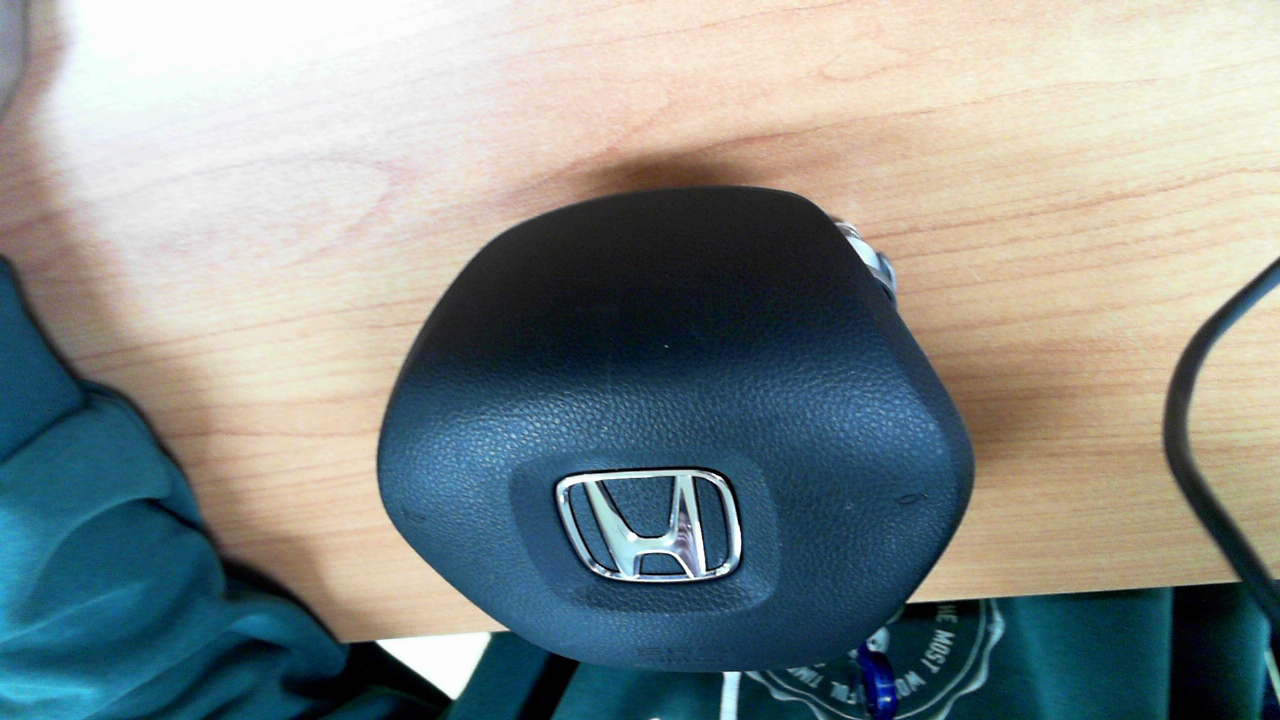Airbag: (376, 184, 977, 672)
Honda: (555, 465, 743, 583)
